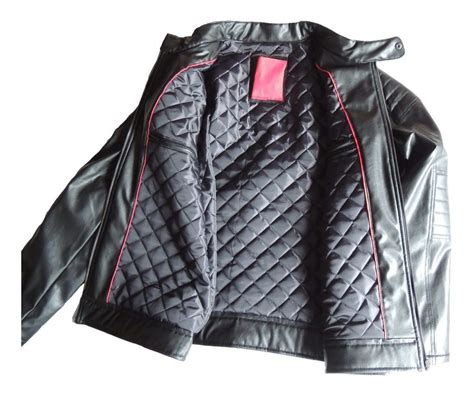cuero: (22, 19, 453, 377)
